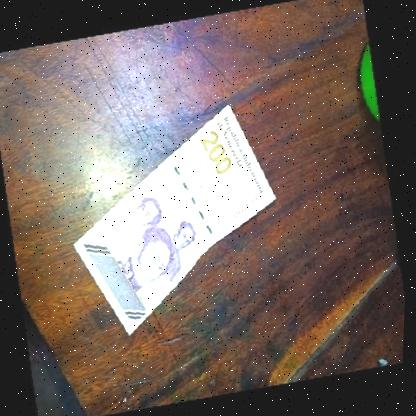two_hundred-front-vef: (63, 100, 290, 340)
